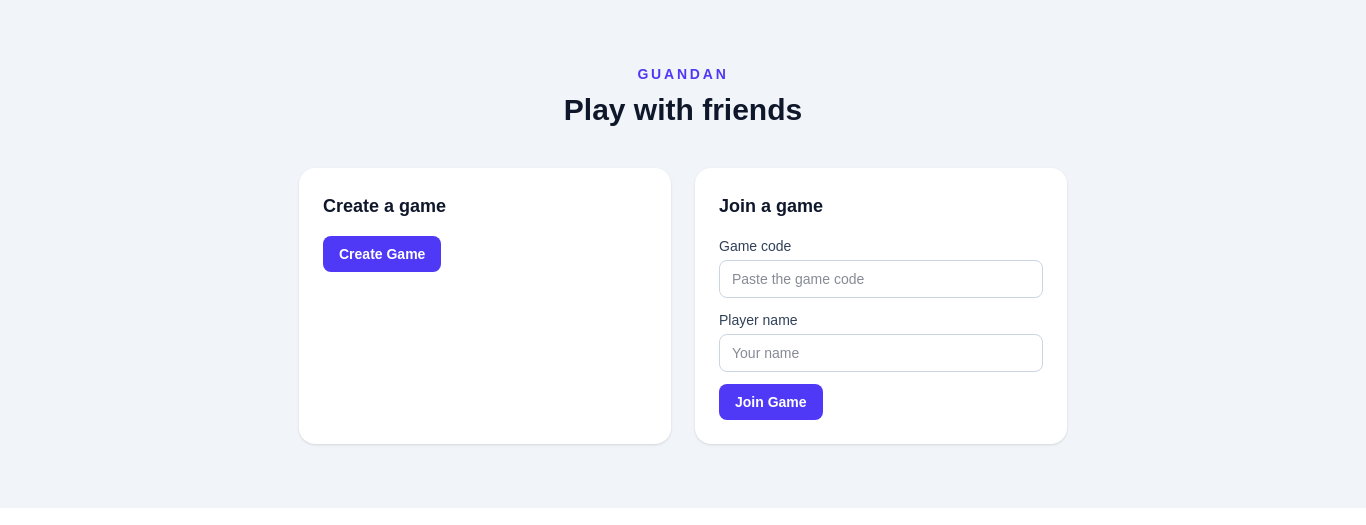
Test: Home › shows an error when game creation fails
The image size is (1366, 525).
What coordinates should you click on to do the following:
click the button with test id "create-game-button"
I would click on:
 (382, 254)
Its box is [323,236,441,272].
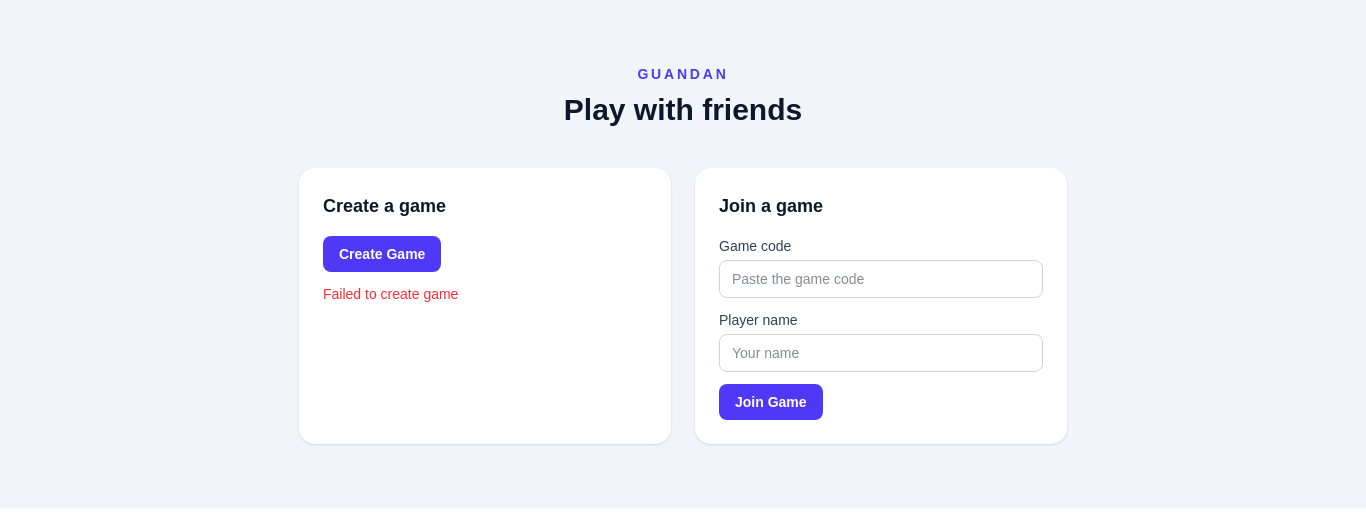
Check: the text with test id "create-game-error" reads "Failed to create game", box [323,286,458,302]
